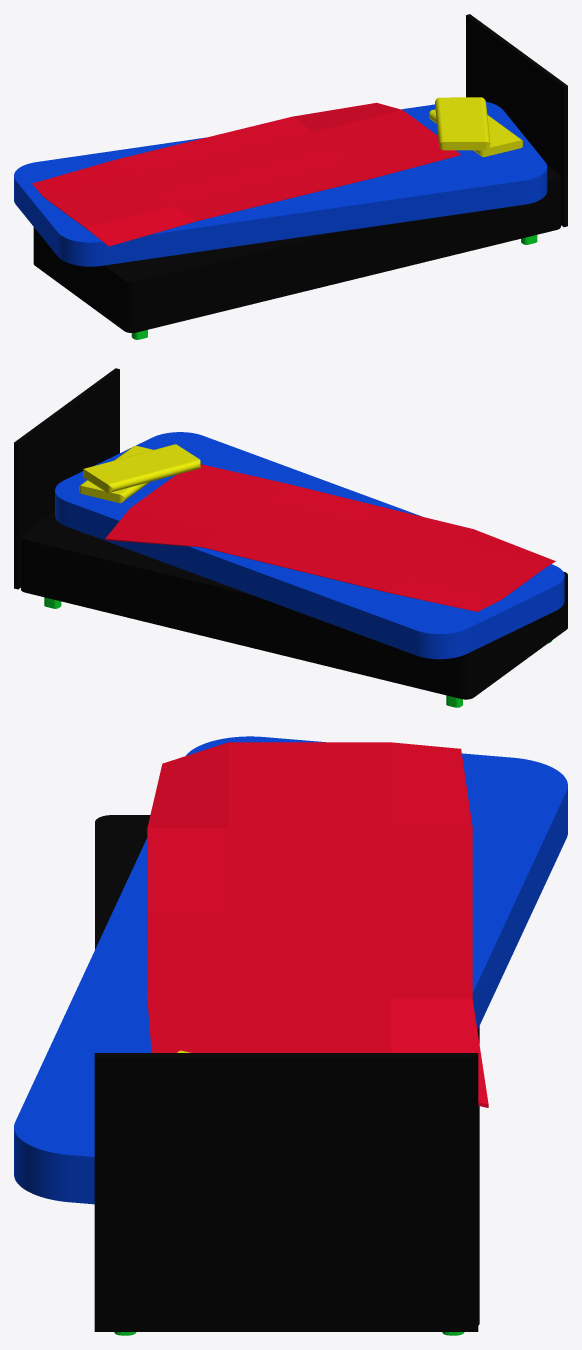
Rendered from Messy_Bed.fbx.
The picture shows the model from 3 angles, top to bottom: view 1: azimuth 30°, elevation 25°; view 2: azimuth 150°, elevation 25°; view 3: azimuth 270°, elevation 25°; orthographic projection. The views are drawn at different scales.
Parts seen in each view (by area): view 1: Bunk-Bed-Matresses.003; view 2: Bunk-Bed-Matresses.003; view 3: Bunk-Bed-Matresses.003.
Boxes of the visible parts, x1,y1,x2,y2 form: Bunk-Bed-Matresses.003: [14, 14, 567, 339]; Bunk-Bed-Matresses.003: [14, 368, 567, 707]; Bunk-Bed-Matresses.003: [14, 736, 567, 1335].
Size of the model in its own units: 1923 by 610 by 1008.
